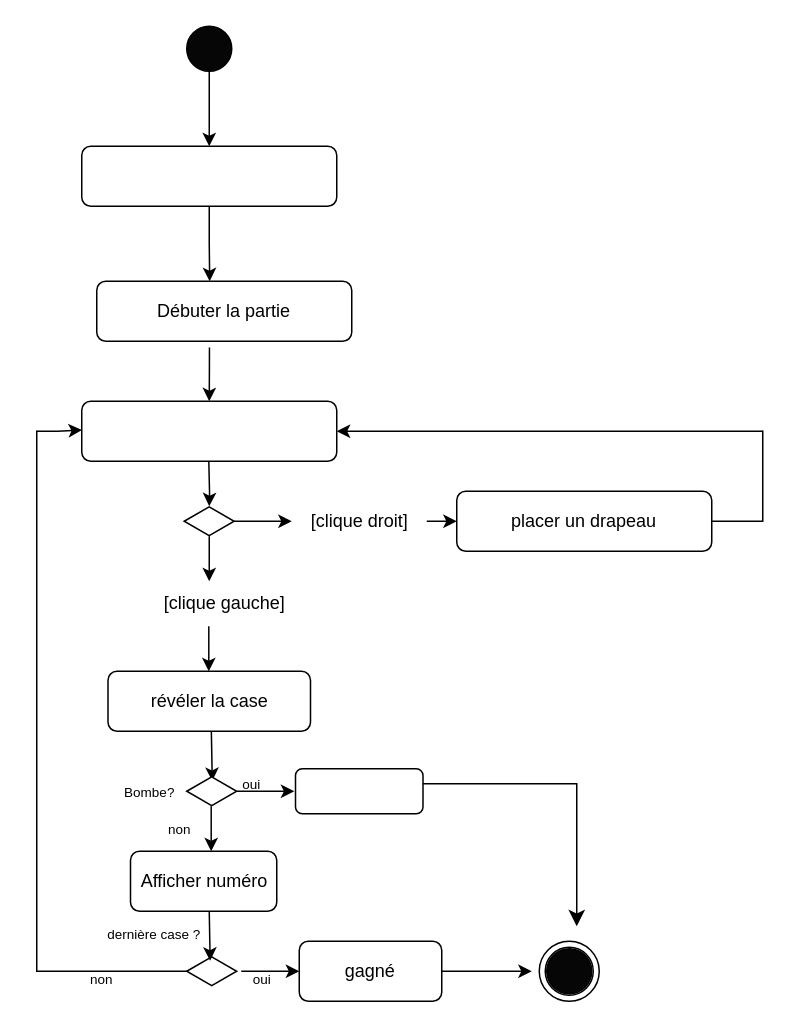
This 801x1028 diagram has some shape labels left out. Each missing label, with the centre of its shape:
Choisir le niveau de difficulté: (208,175)
cliquer sur une case: (208,430)
perdu: (358,790)
